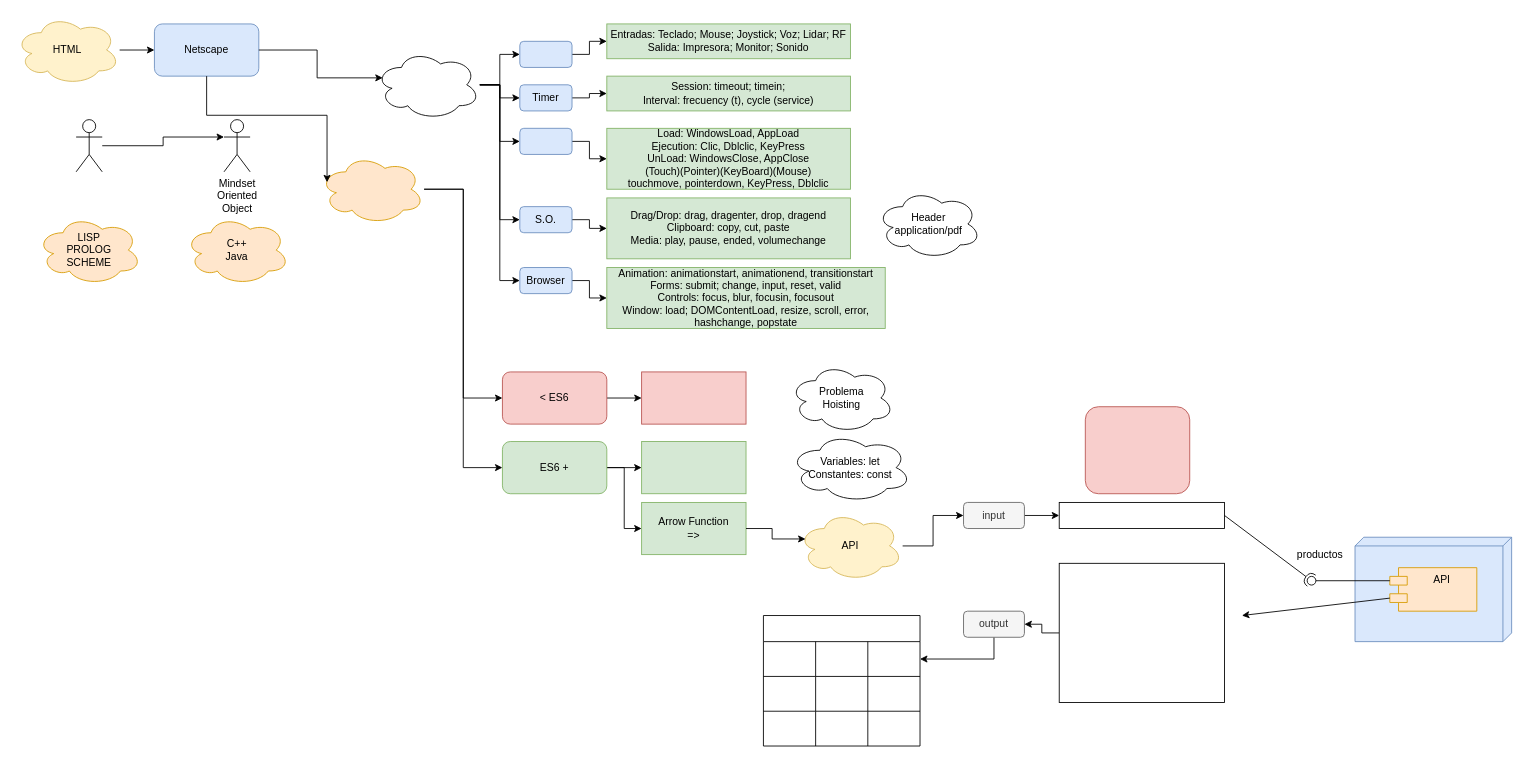
This 1527x761 diagram has some shape labels left out. The shapes that lost their labels are listed below. From the top down, each one's box as (x1, y1, x2, y2) in pixels, then its label:
(519, 40, 572, 67): I/O
(375, 49, 480, 120): ¿Eventos?
(75, 119, 102, 172): Mindset Funcional
(519, 127, 572, 154): Interaction
(319, 154, 424, 224): Javascript
(641, 371, 746, 424): No utilice "var" ej. var nombre = "a";
(641, 441, 746, 494): let nombre = "a" const PI = 3.14;
(1084, 406, 1190, 494): HTTPCODE GET (Select) POST (All-Insert) PUT (Update) DELETE
(1058, 502, 1225, 529): GET https://algo.cl/api/productos
(1354, 536, 1512, 642): algo.cl
(1058, 562, 1225, 703): JSON { "status": 200, "message": "Productos obt.", "data": [{},{},{}] }
(763, 615, 920, 746): Table
